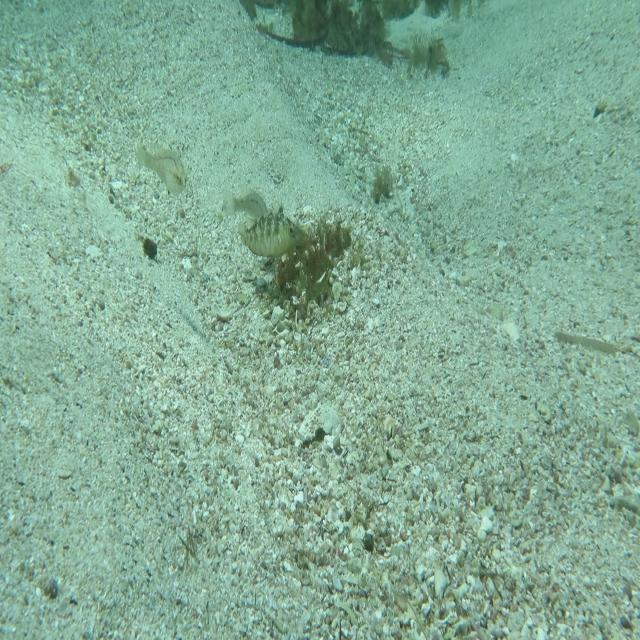BEND_OPP: (235, 196, 306, 261)
female: (219, 181, 273, 240)
nest: (263, 205, 367, 319)
other_fish: (130, 129, 196, 201)
